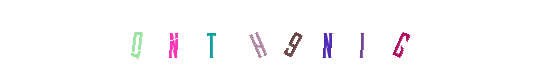9: (240, 0, 320, 80)
G: (360, 0, 440, 80)
H: (237, 0, 317, 80)
I: (295, 0, 375, 80)
N: (133, 0, 213, 80), (253, 0, 333, 80)
Q: (100, 0, 180, 80)
T: (171, 0, 251, 80)
